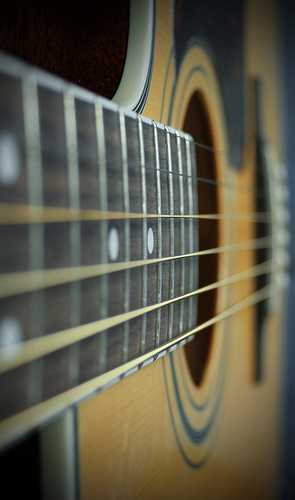guitar: (1, 1, 295, 500)
